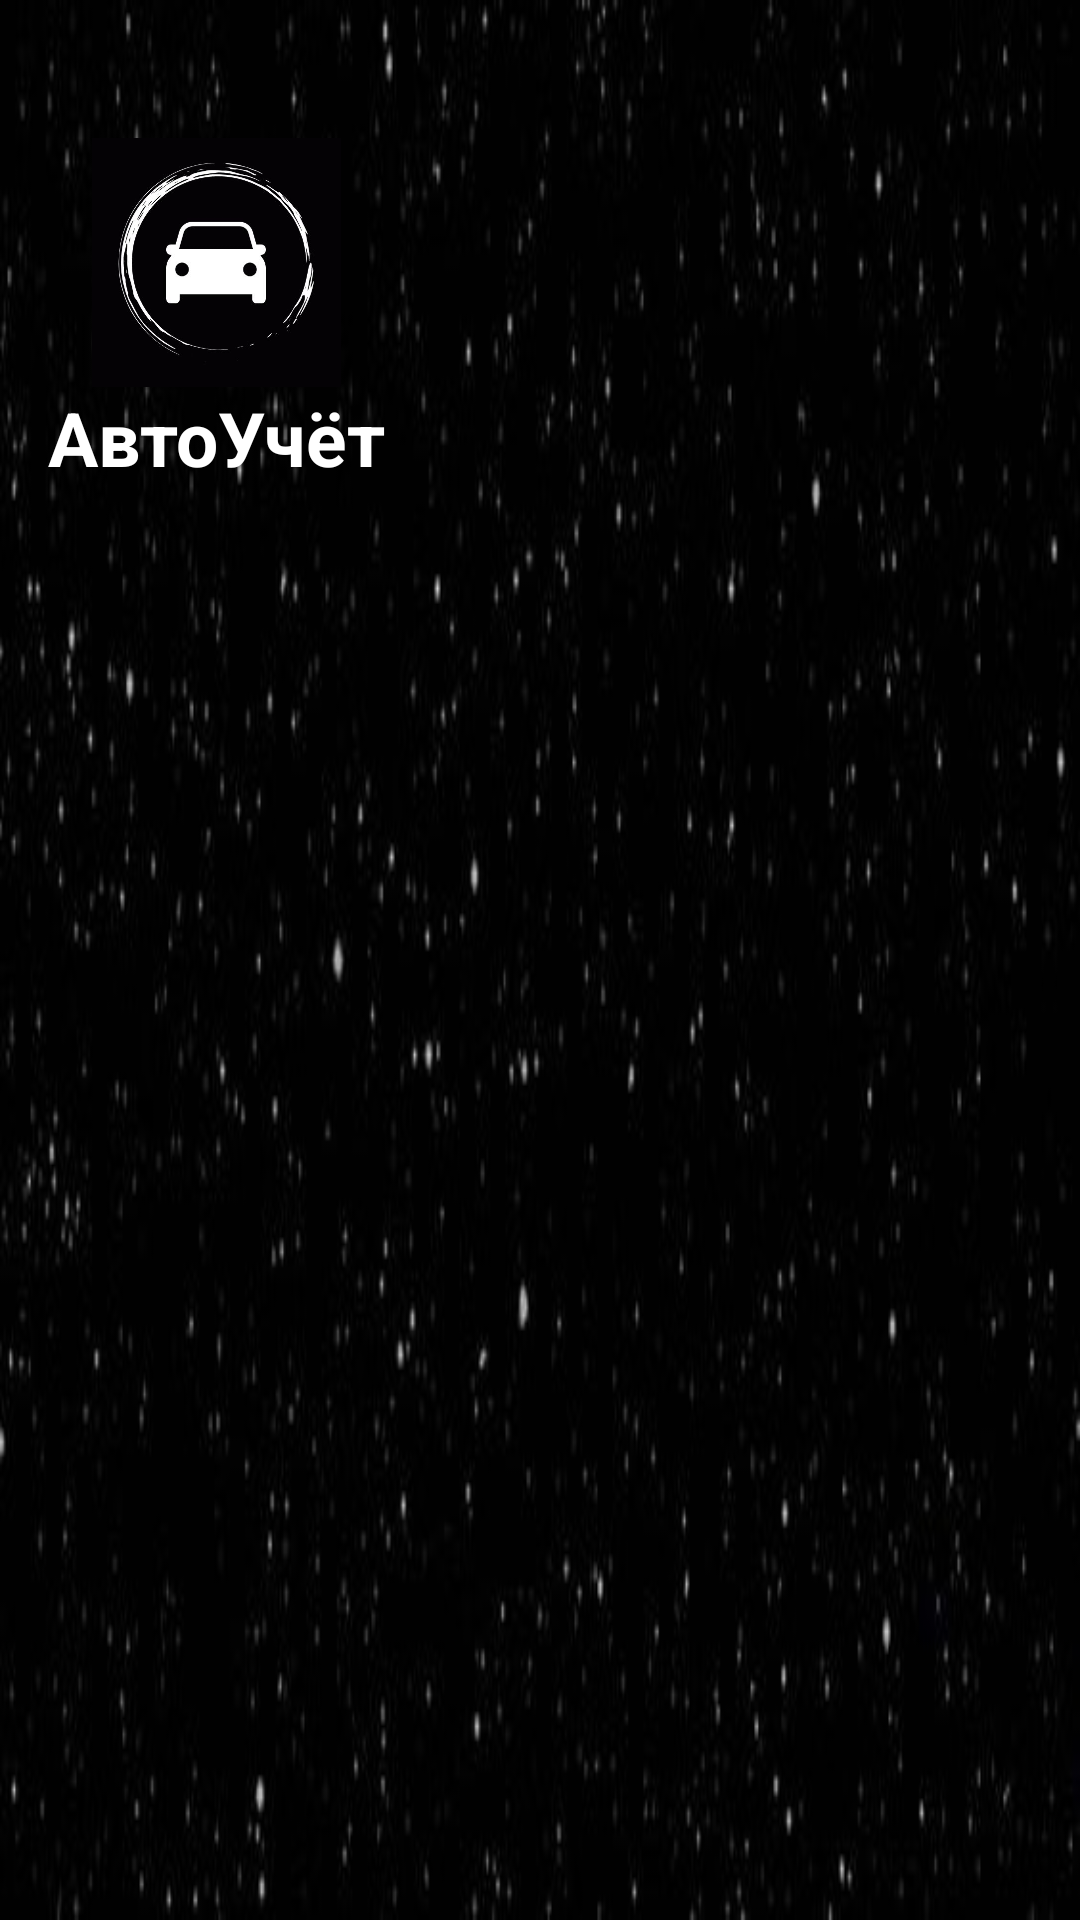

Where icons sit on this 1080w x 1920h app screen, as [left=x1, top=y1, right=x2, bottom=y2]:
car: [left=118, top=163, right=314, bottom=355]
